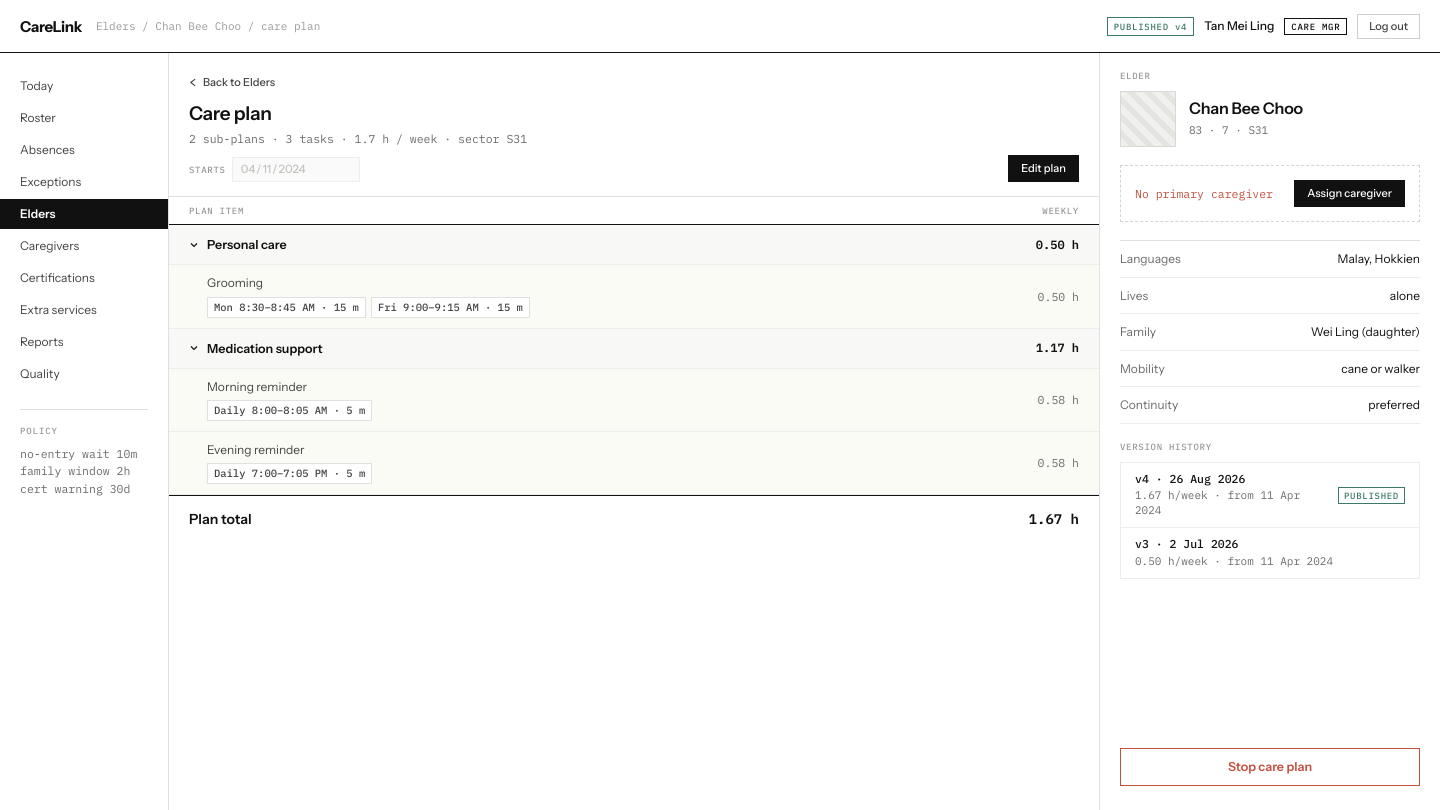
Test: deletes the sub-plan and its tasks on confirm, and recomputes the total
Click the button "Edit plan" at (1044, 169), box [1008,155,1079,182]
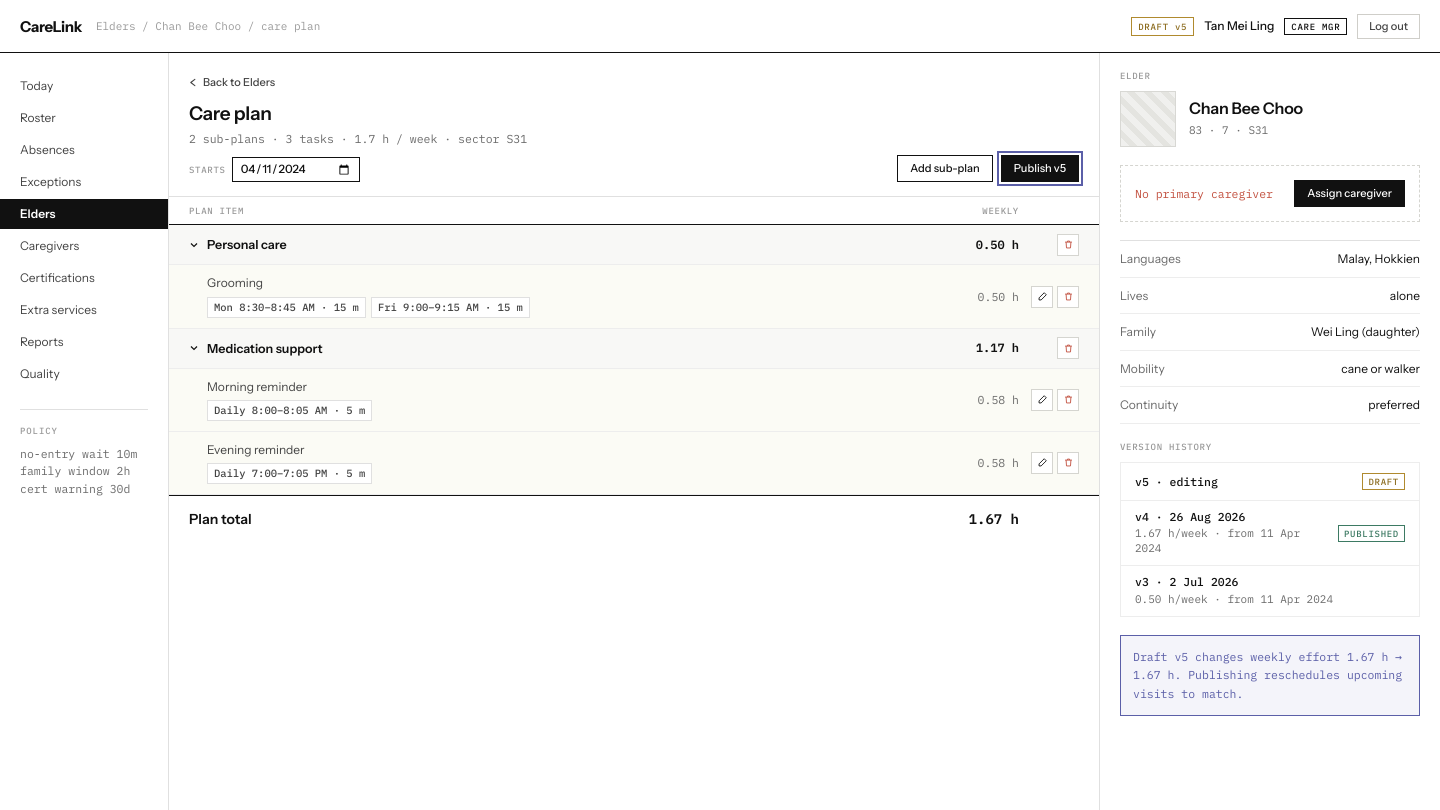
expect the text "1.67 h" is shown: met, box [969,510,1019,528]
Click the button named "Delete sub-plan Medication support and its tasks" at (1068, 348), box [1057,337,1079,359]
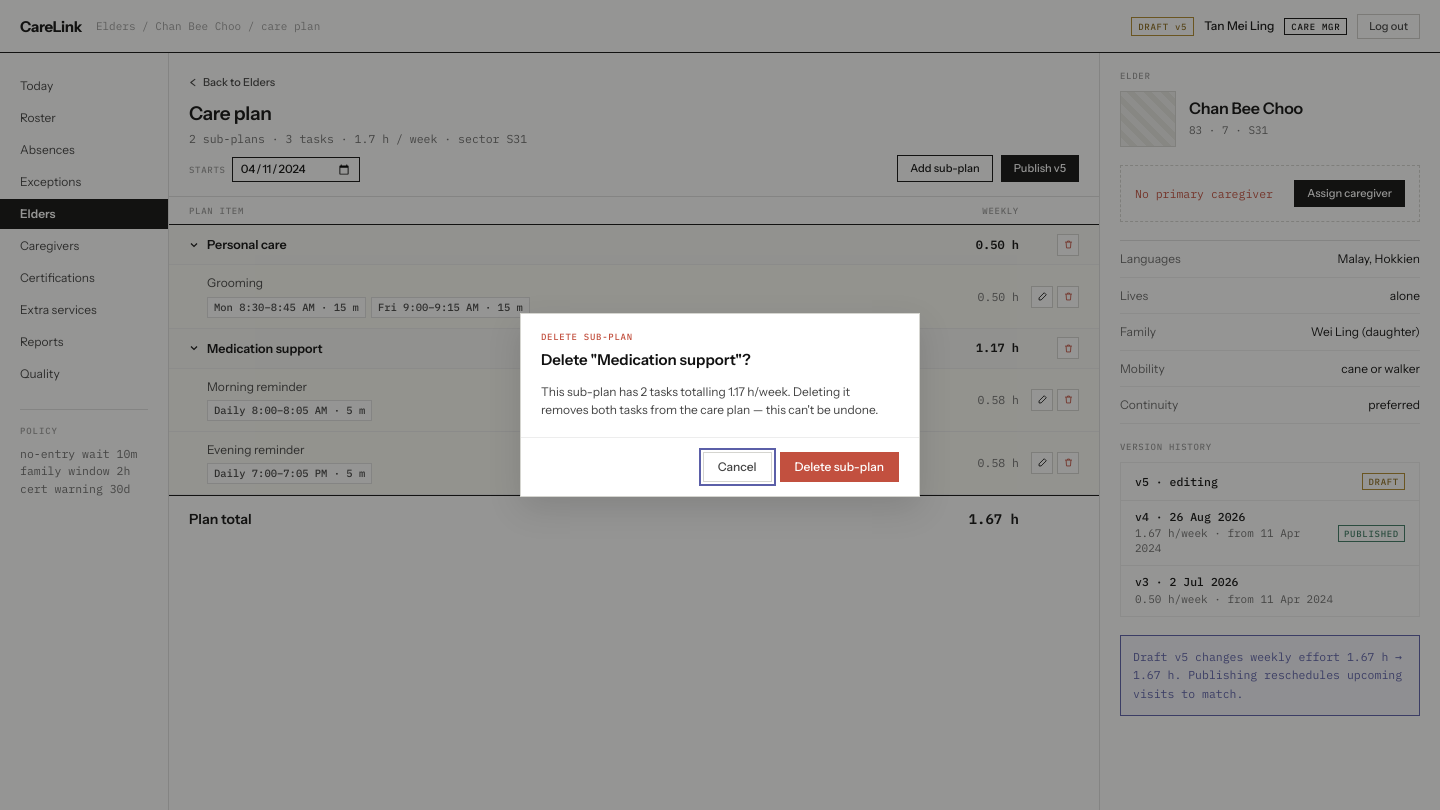
Click the button "Delete sub-plan" at (839, 467), box [780,452,899,482]
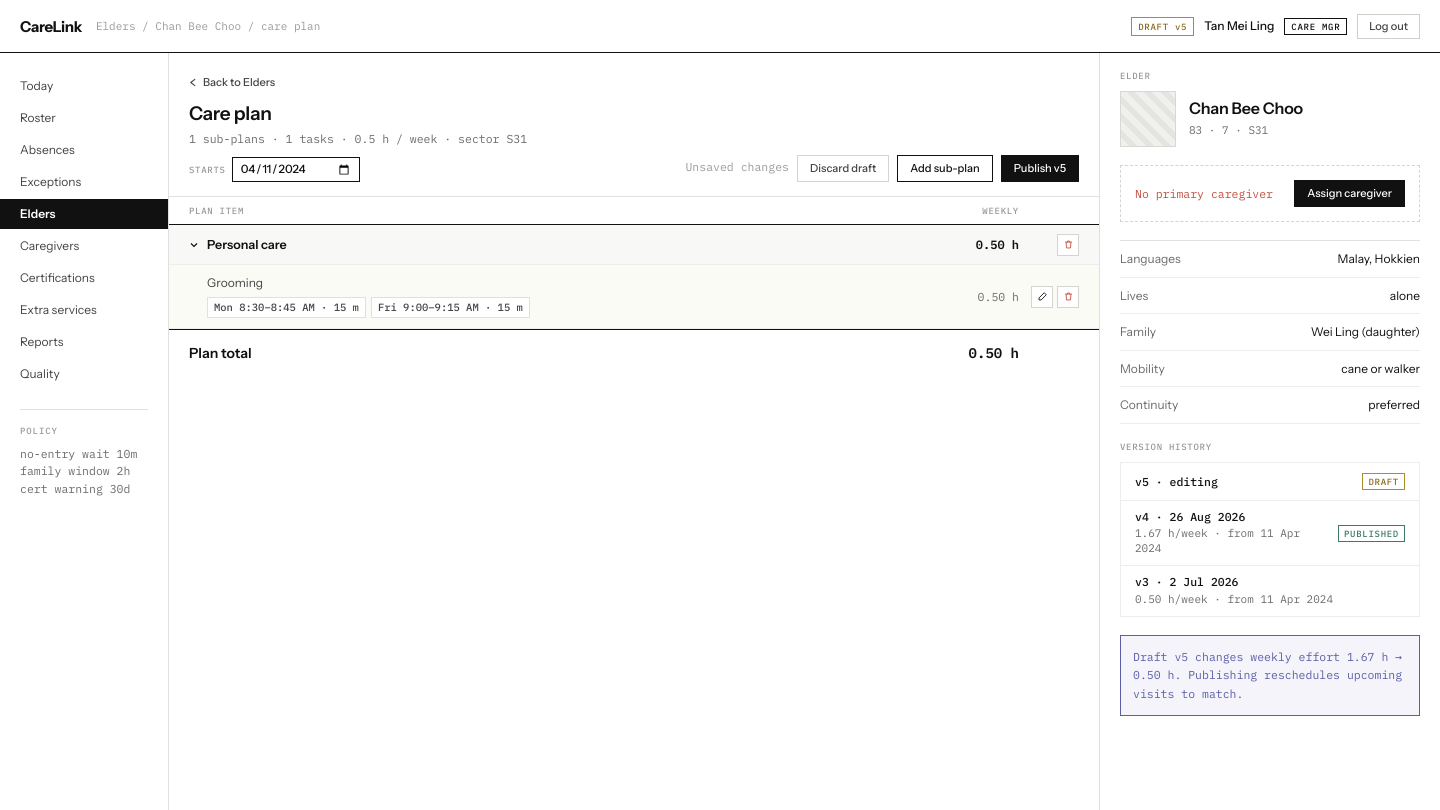
expect the button "Medication support" is gone: met
expect the text "Morning reminder" is gone: met
expect the message shows "changes weekly effort 1.67 h → 0.50 h": met, box [1120,635,1420,716]
